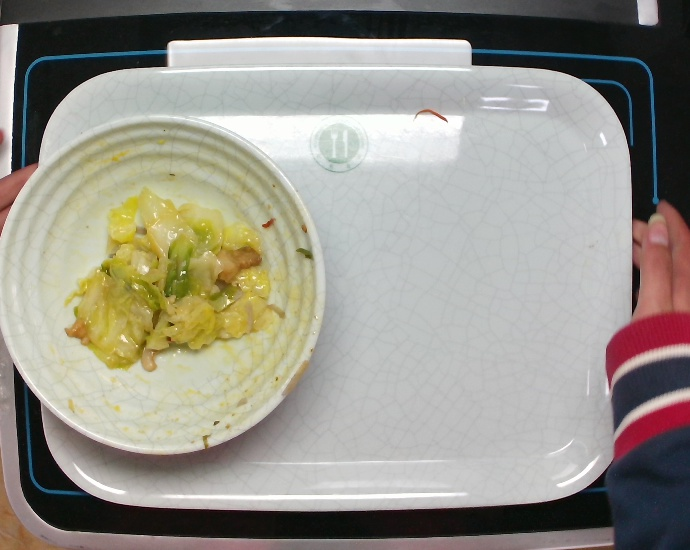JYsf-Da_Tang_Wan: (1, 110, 331, 460)
